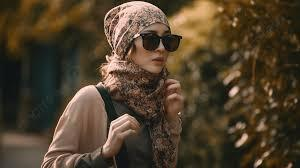cap: (101, 0, 175, 58)
sunglasses: (138, 30, 185, 50)
